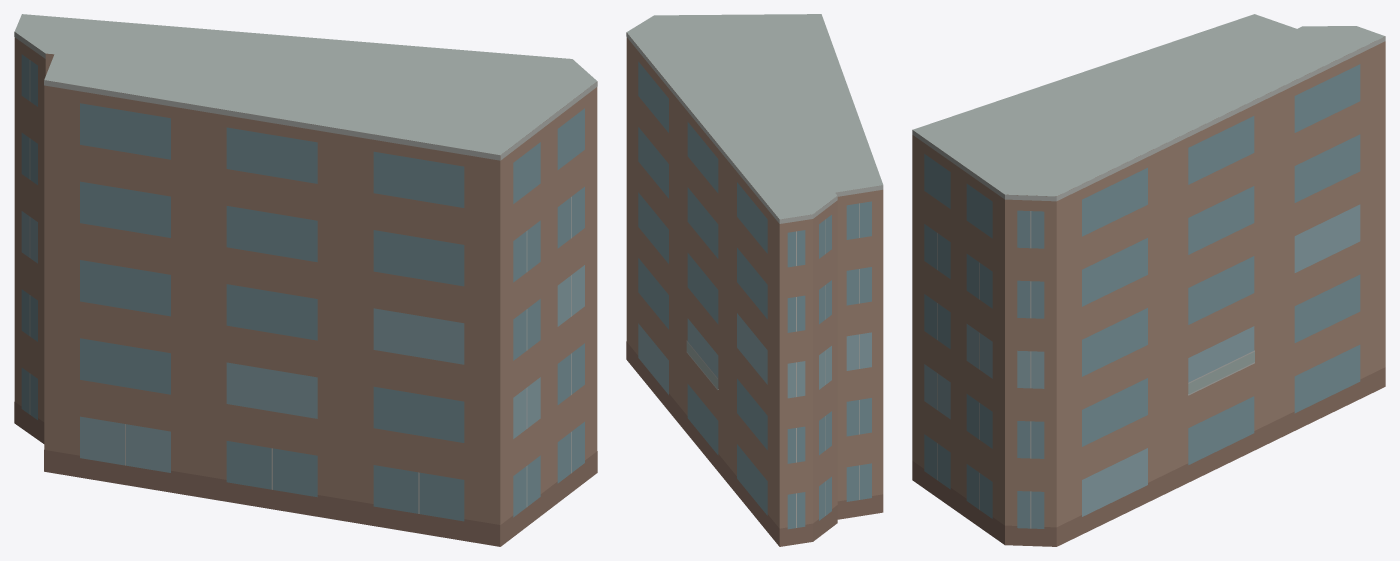
File: survey-upis-32706351.glb
3 renders of one model, left to right at view 1: azimuth 30°, elevation 25°; view 2: azimuth 150°, elevation 25°; view 3: azimuth 270°, elevation 25°, orthographic. The views are drawn at different scales.
Parts seen in each view (by area): view 1: survey-upis-32706351.tmp; view 2: survey-upis-32706351.tmp; view 3: survey-upis-32706351.tmp.
Part boxes in pixels (x1,y1,x2,y2): survey-upis-32706351.tmp: (14, 14, 597, 546); survey-upis-32706351.tmp: (626, 14, 883, 546); survey-upis-32706351.tmp: (912, 14, 1385, 546).
Bounding box in the file's own units: 19.55 × 17.5 × 21.42.
